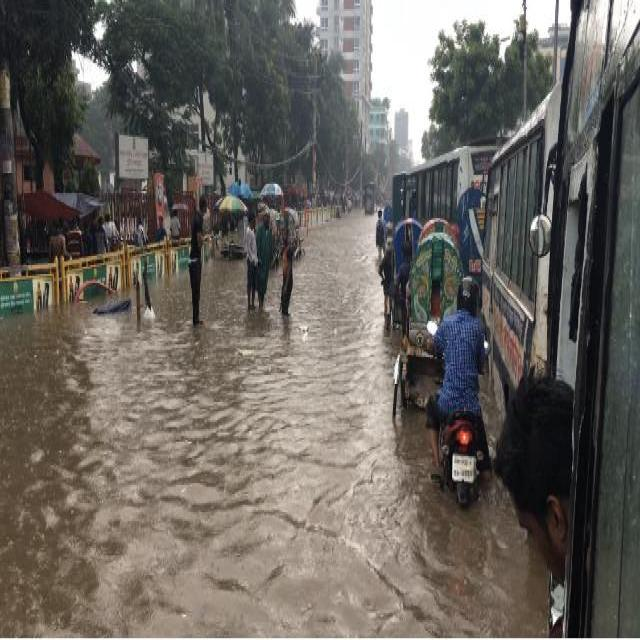motorbike: (426, 271, 494, 502)
rickshaw: (391, 232, 457, 430), (382, 216, 420, 334), (278, 206, 304, 254)
